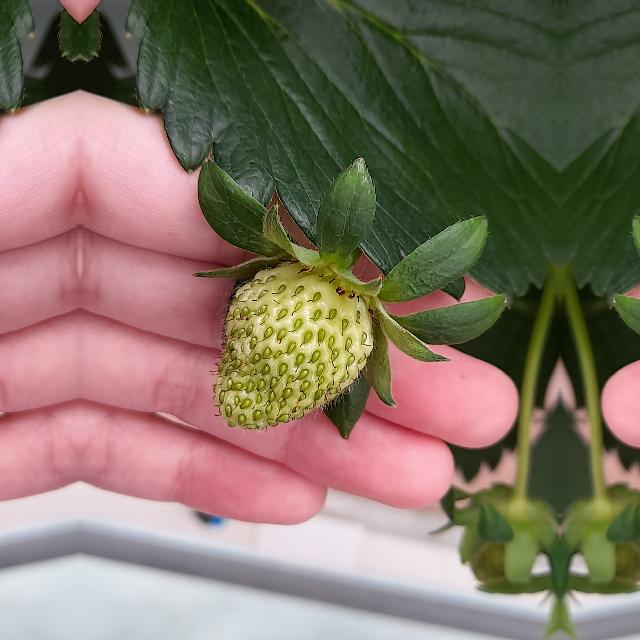Health_25: (213, 256, 373, 430)
